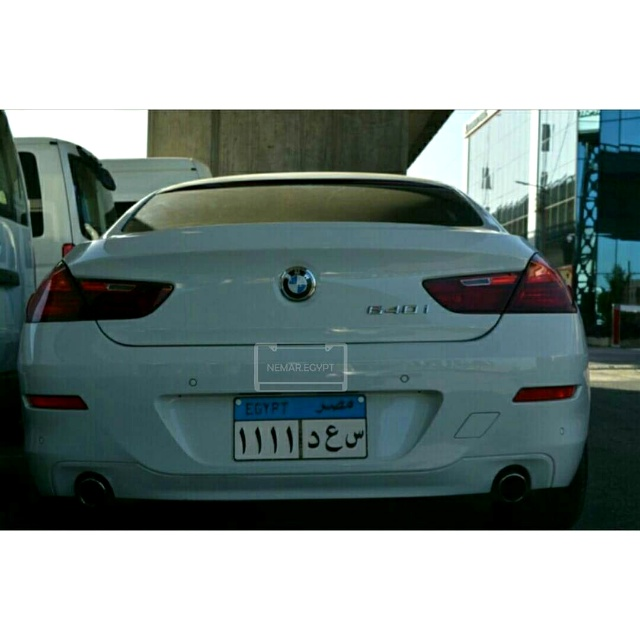License Plate: (229, 392, 370, 463)
